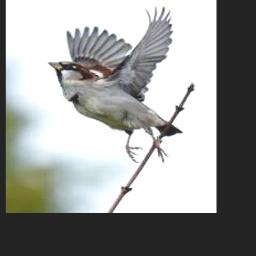Sparrow: (48, 5, 182, 162)
